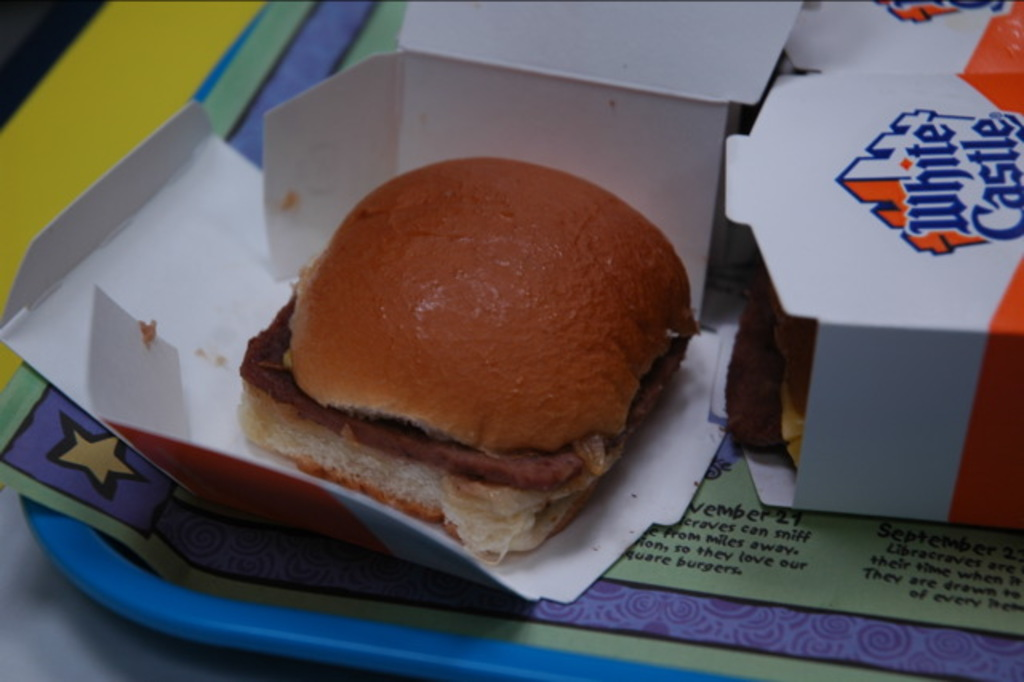Hamburger: (235, 156, 704, 566)
